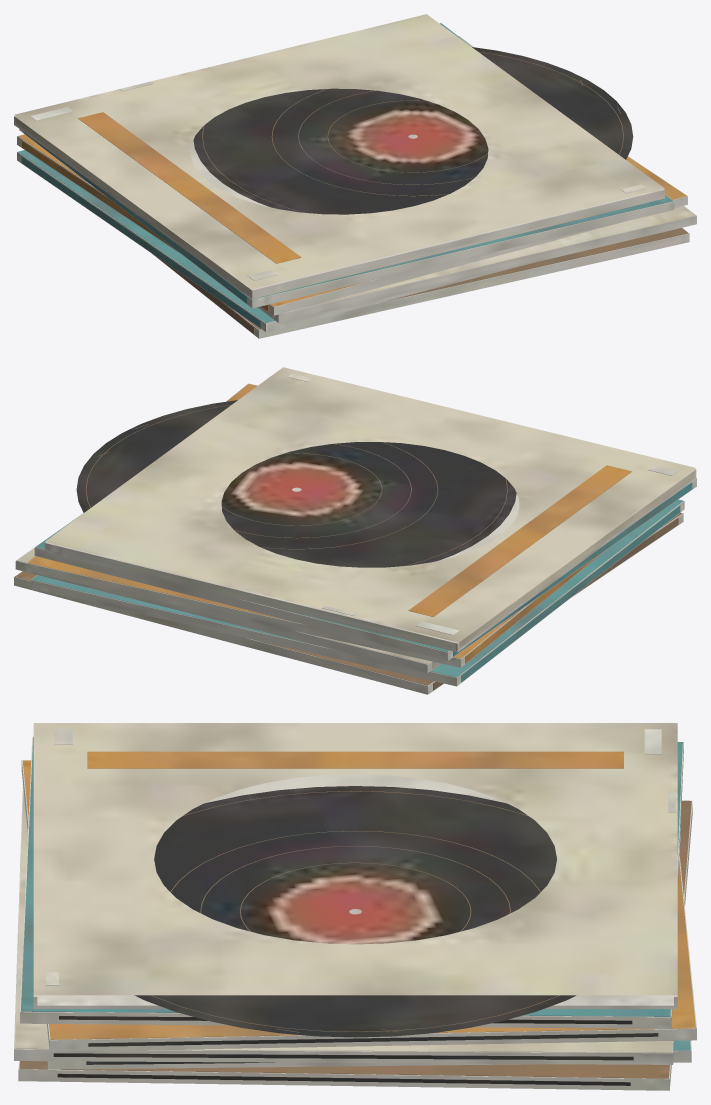
Rendered from Q22_vinyl_records_stack.glb.
3 renders of one model, top to bottom at view 1: azimuth 30°, elevation 25°; view 2: azimuth 150°, elevation 25°; view 3: azimuth 270°, elevation 25°, orthographic. The views are drawn at different scales.
Visible parts, largest first — view 1: Jacket_paper_core; view 2: Jacket_paper_core; view 3: Jacket_paper_core.
Part boxes in pixels (x1=…): Jacket_paper_core: x1=14, y1=14, x2=696, y2=338; Jacket_paper_core: x1=14, y1=367, x2=696, y2=694; Jacket_paper_core: x1=14, y1=723, x2=696, y2=1090.
Size of the model in its own units: 0.4 by 0.0444 by 0.3715.
Materials: 8 (8 with a texture image).
